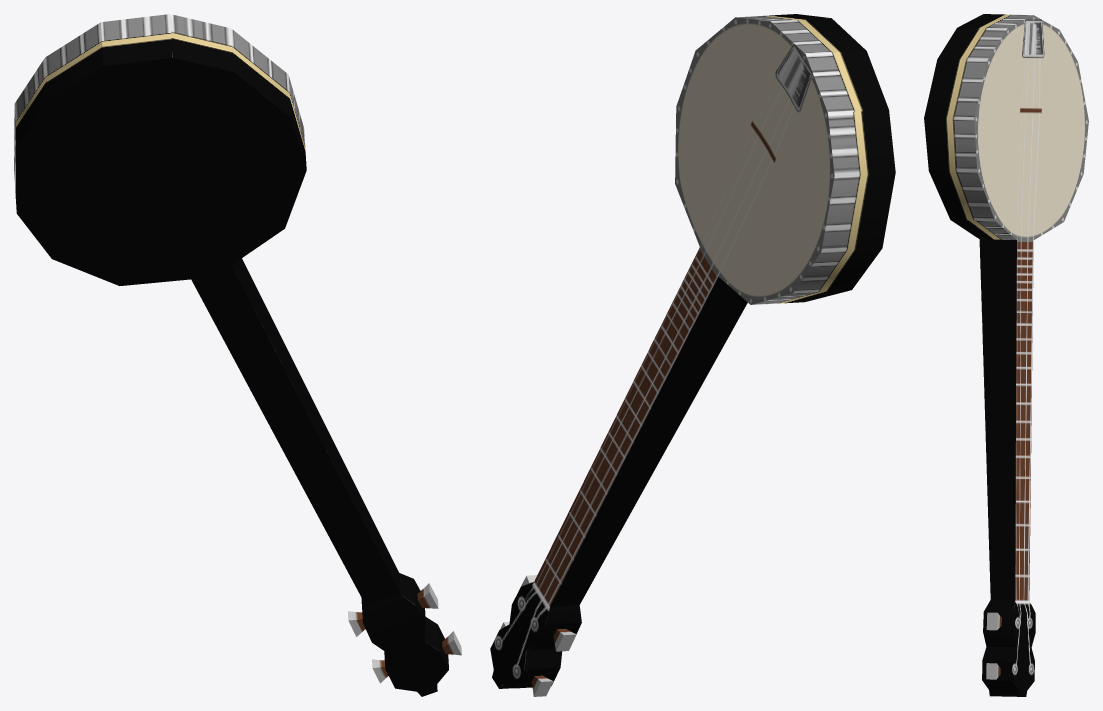
Rendered from guitarra1_000187.obj.
3 views of the same model, side by side, from view 1: azimuth 30°, elevation 25°; view 2: azimuth 150°, elevation 25°; view 3: azimuth 270°, elevation 25° (orthographic). The views are drawn at different scales.
Visible parts, largest first — view 1: g1_pCube6; view 2: g1_pCube6; view 3: g1_pCube6.
Boxes of the visible parts, box(x1,y1,x2,y2) form: g1_pCube6: box(14, 14, 461, 696); g1_pCube6: box(490, 14, 895, 696); g1_pCube6: box(924, 14, 1088, 696).
Bounding box in the file's own units: 7.48 × 12.44 × 3.24.
